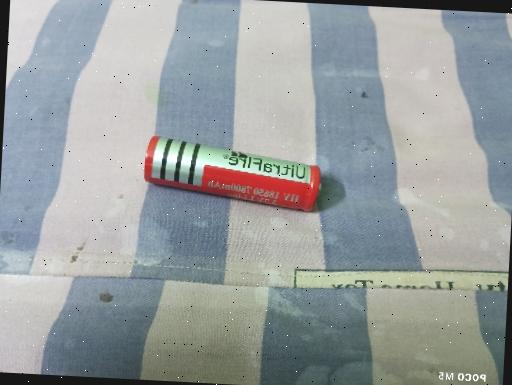Battery: (142, 133, 324, 212)
